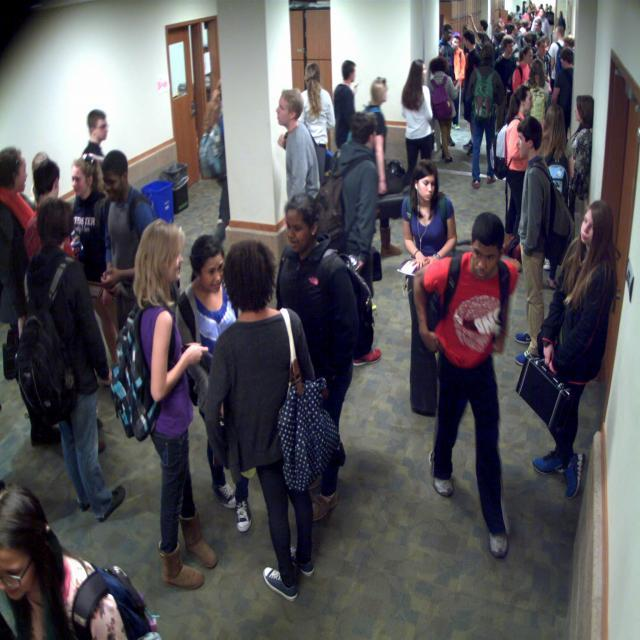Backpacks: (12, 300, 83, 434), (105, 302, 161, 450), (541, 170, 577, 272), (308, 164, 348, 244), (194, 120, 229, 184), (472, 74, 500, 124)
